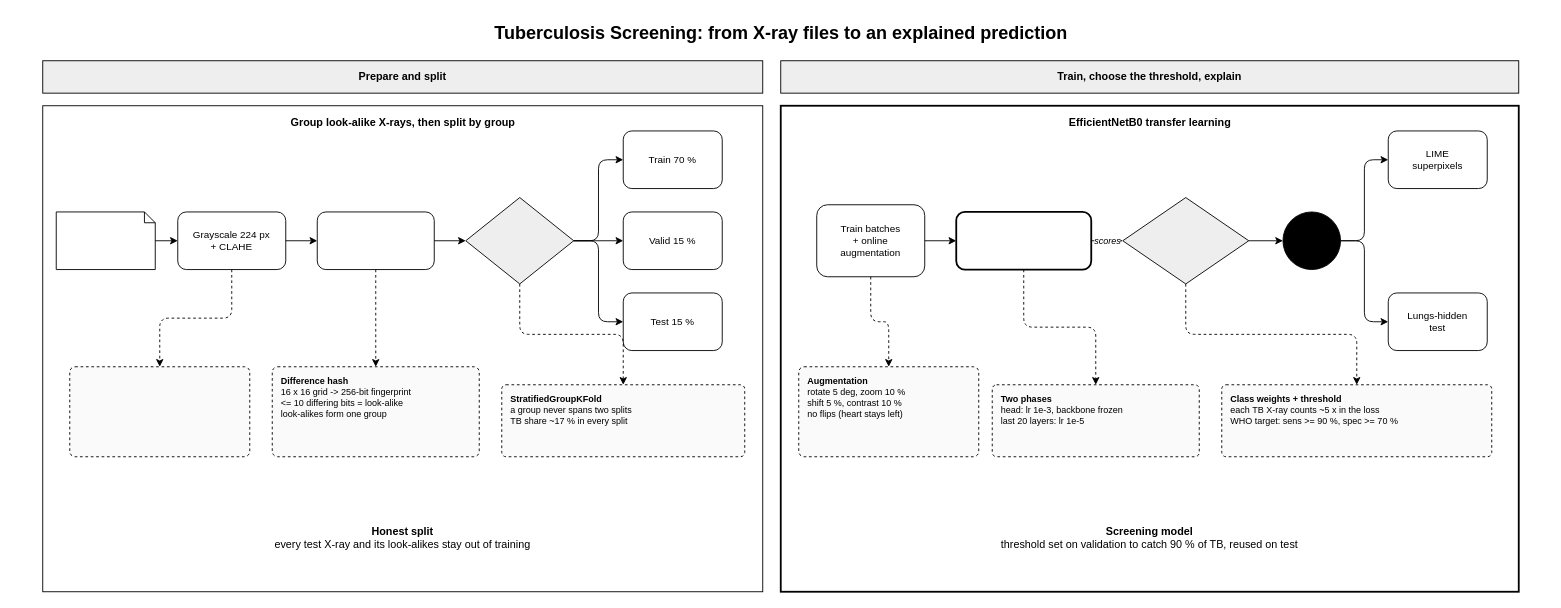
Image size: 1561x608. Some labels were removed from this diagram. Each missing label, with the centre of its shape:
"4,200 X-rays 700 TB" goes at [105,240].
"CLAHE contrast per 8 x 8 tile clip limit 2.0 faint patches easier to see" goes at [159,411].
"Difference hash group look-alikes" goes at [375,240].
"EfficientNetB0 head, then fine-tune" goes at [1023,240].
"group split" goes at [519,240].
"P(TB)" goes at [1311,240].
"threshold sensitivity 90 %" goes at [1185,240].
